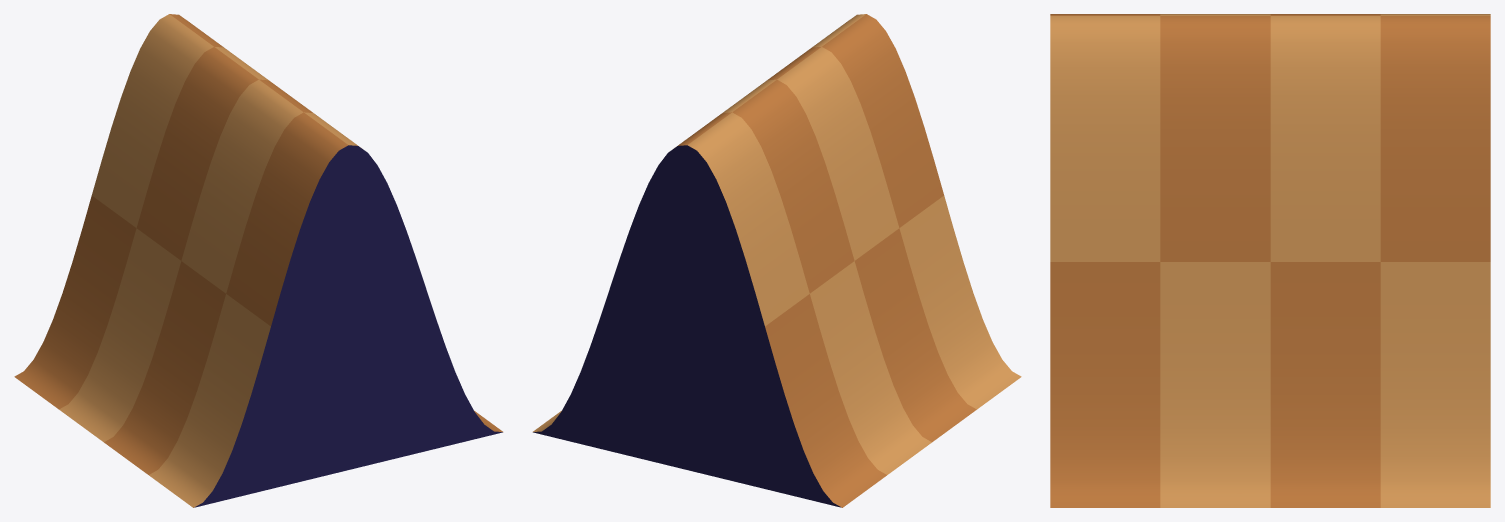
Rendered from arch_orange.glb.
3 views of the same model, side by side, from view 1: azimuth 30°, elevation 25°; view 2: azimuth 150°, elevation 25°; view 3: azimuth 270°, elevation 25° (orthographic). The views are drawn at different scales.
Visible parts, largest first — view 1: Body; view 2: Body; view 3: Body.
Boxes of the visible parts, box(x1,y1,x2,y2) form: Body: box(14, 14, 503, 507); Body: box(532, 14, 1021, 507); Body: box(1050, 14, 1490, 507).
Size of the model in its own units: 1 by 1 by 1.
